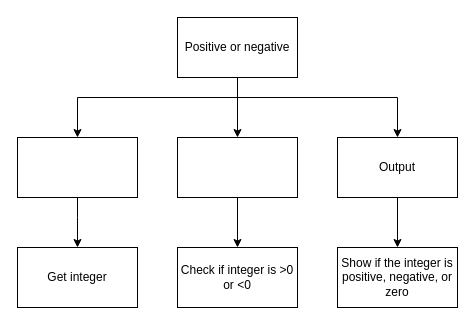
Image size: 475x325. Some labels were removed from this diagram. Here are the shapes that lost their labels. From the top down, the box of each, then its label:
(16, 136, 138, 198): Input
(176, 136, 298, 198): Process
